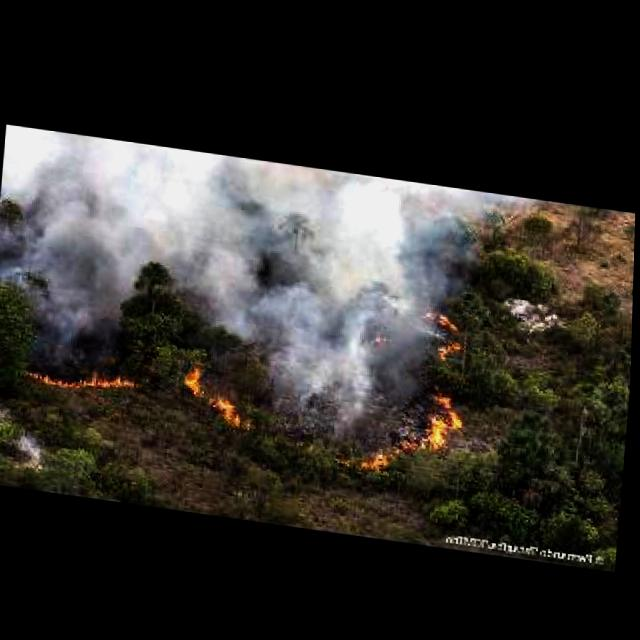Fire: (361, 359, 475, 477), (11, 351, 149, 402), (176, 353, 260, 429), (423, 296, 469, 360)
Smoke: (0, 126, 436, 370), (270, 351, 369, 429)
